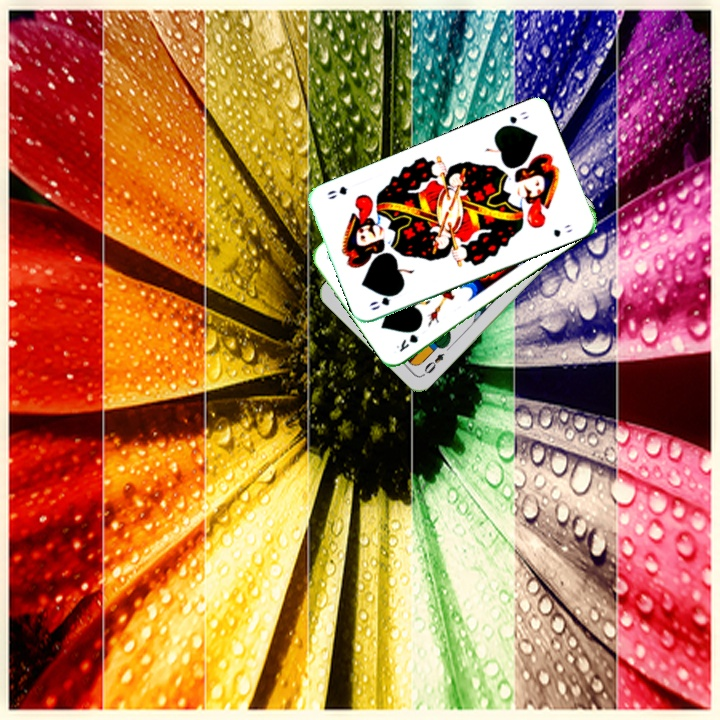EO: (420, 349, 447, 376)
GK: (392, 330, 420, 355)
GO: (365, 287, 403, 313), (496, 107, 532, 131)
